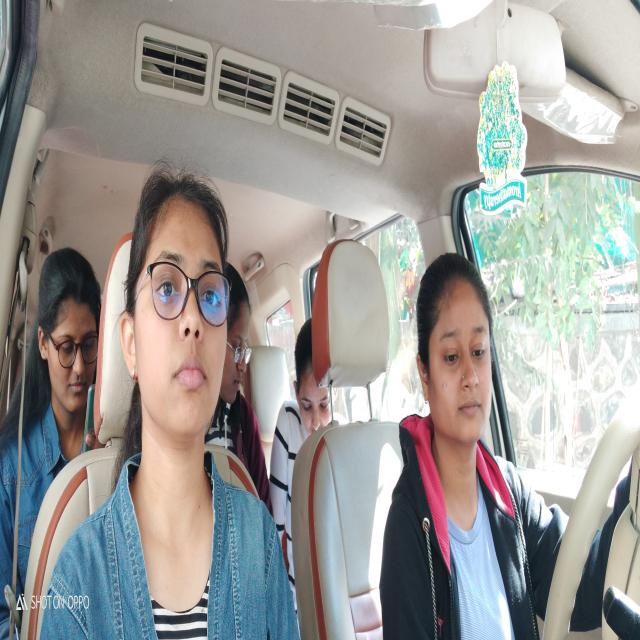person: (134, 193, 226, 432), (414, 267, 495, 443), (39, 265, 100, 404), (292, 327, 332, 430), (224, 268, 253, 410)
